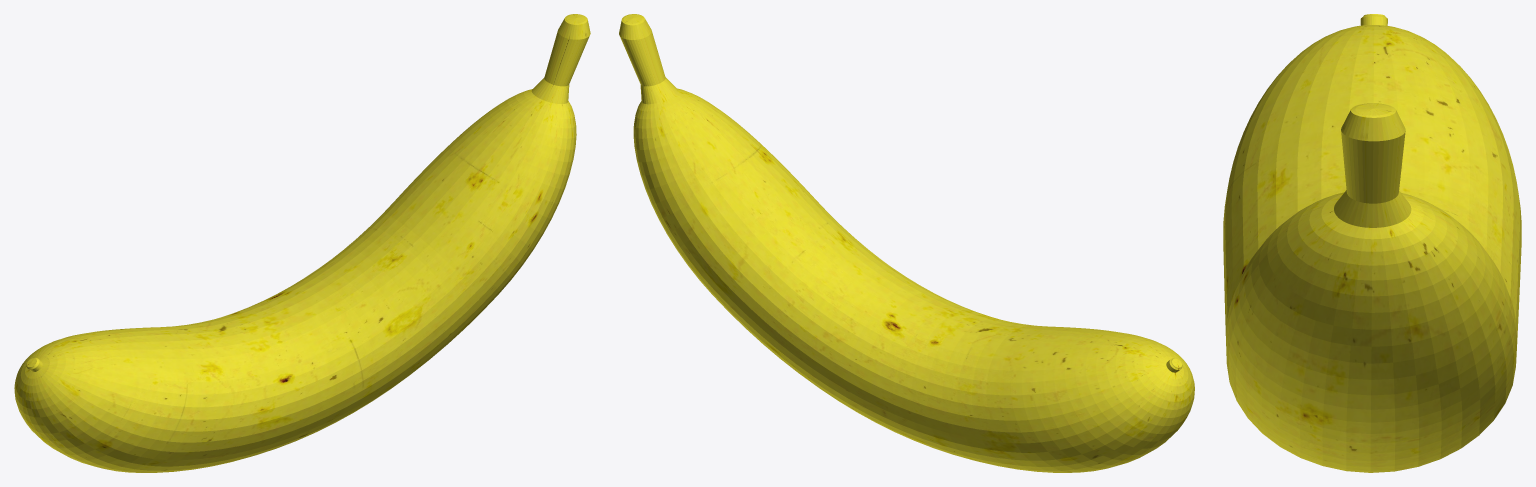
File: banana.obj
3 renders of one model, left to right at view 1: azimuth 30°, elevation 25°; view 2: azimuth 150°, elevation 25°; view 3: azimuth 270°, elevation 25°, orthographic. The views are drawn at different scales.
Visible parts, largest first — view 1: banana_banana1; view 2: banana_banana1; view 3: banana_banana1.
Part boxes in pixels (x1,y1,x2,y2): banana_banana1: [14, 14, 590, 472]; banana_banana1: [619, 14, 1194, 472]; banana_banana1: [1223, 14, 1521, 472].
Size of the model in its own units: 2.17 by 1.28 by 0.5751.
Materials: 1 (1 with a texture image).
